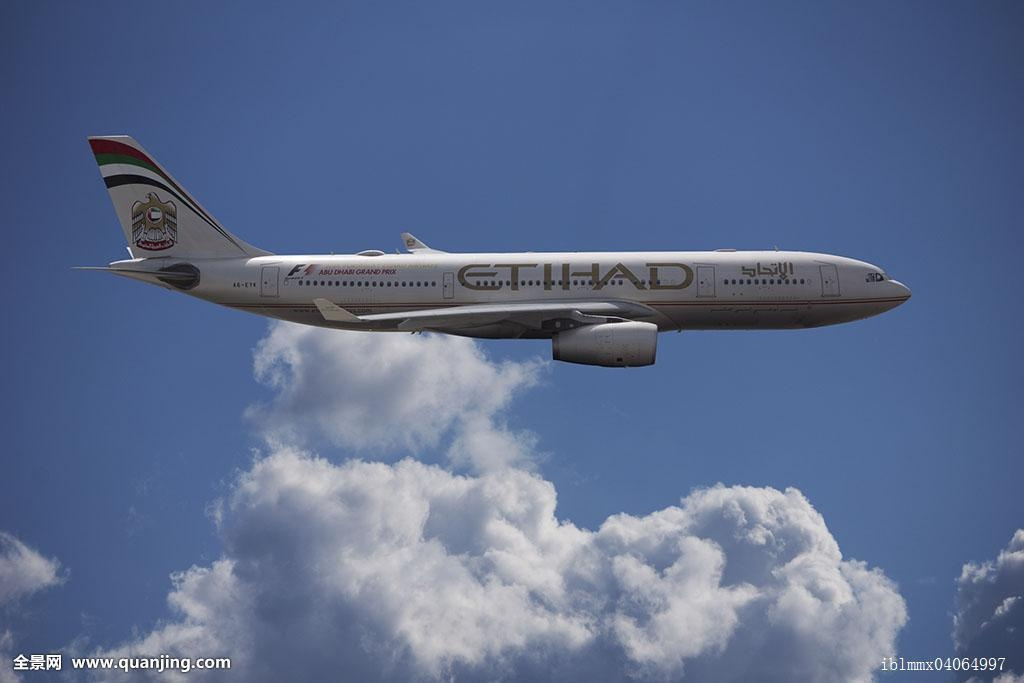airplane: (77, 128, 942, 360)
